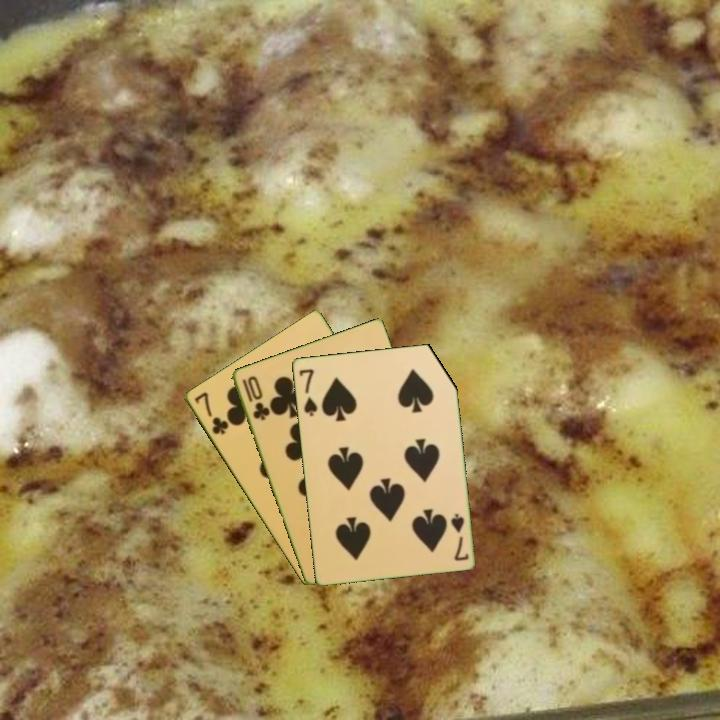10c: (238, 372, 272, 423)
7c: (190, 388, 231, 438)
7s: (295, 365, 320, 419), (447, 510, 471, 564)
